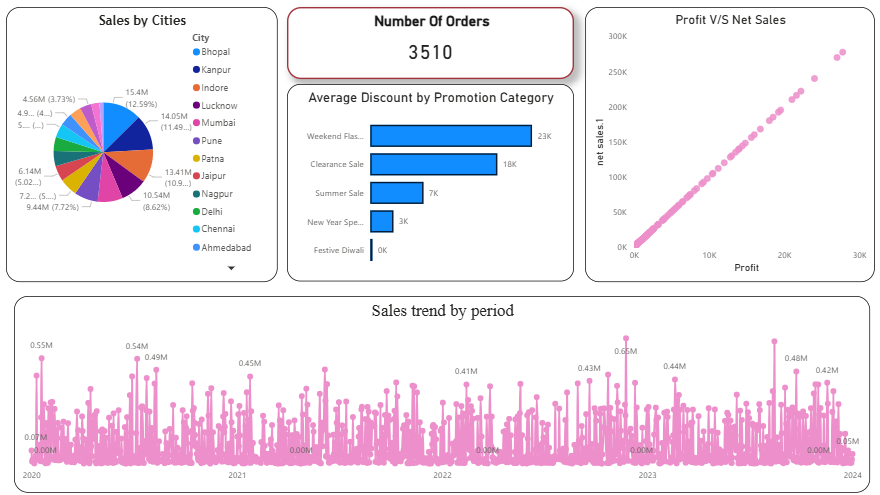

This screenshot's page, from the dashboard's own definition file:
{"tool":"powerbi","page":{"name":"Sales Over Time Period","canvas":[1280,720],"ordinal":1},"visuals":[{"type":"lineChart","title":"Sales trend by period","fields":{"Category":["Fact Table.Date (dd/mm/yyyy).Variation.Date Hierarchy.Year"],"Y":["Sum(Fact Table.net sales.1)"]},"box":[28.6,428.3,1222.9,280.5],"z":0},{"type":"scatterChart","title":"Profit V/S Net Sales","fields":{"X":["Fact Table.Profit"],"Y":["Fact Table.net sales.1"]},"box":[844.9,31.9,413.2,376.3],"z":1000},{"type":"map","title":"Sales by Cities","fields":{"Category":["Dim Customers.City"],"Size":["Sum(Fact Table.net sales.1)"]},"box":[17,40.6,391.4,361.3],"z":2000},{"type":"card","title":"Number Of Orders","fields":{"Values":["CountNonNull(Fact Table.Order ID)"]},"box":[418.3,0,276.7,118.3],"z":3000},{"type":"barChart","title":"Average Discount by Promotion Category","fields":{"Y":["Avg(Fact Table.Discount Value)"],"Category":["Dim Promotion.Promotion Name"]},"box":[418.3,126,409.9,282.2],"z":4000}]}

Visuals, with their boxes in screenshot pixels (x1, y1, x2, y2), scaled from the page's 1280x720 canvas onto the 880x495 screenshot:
"Sales trend by period" lineChart: 20/294/860/487
"Profit V/S Net Sales" scatterChart: 581/22/865/281
"Sales by Cities" map: 12/28/281/276
"Number Of Orders" card: 288/0/478/81
"Average Discount by Promotion Category" barChart: 288/87/569/281
